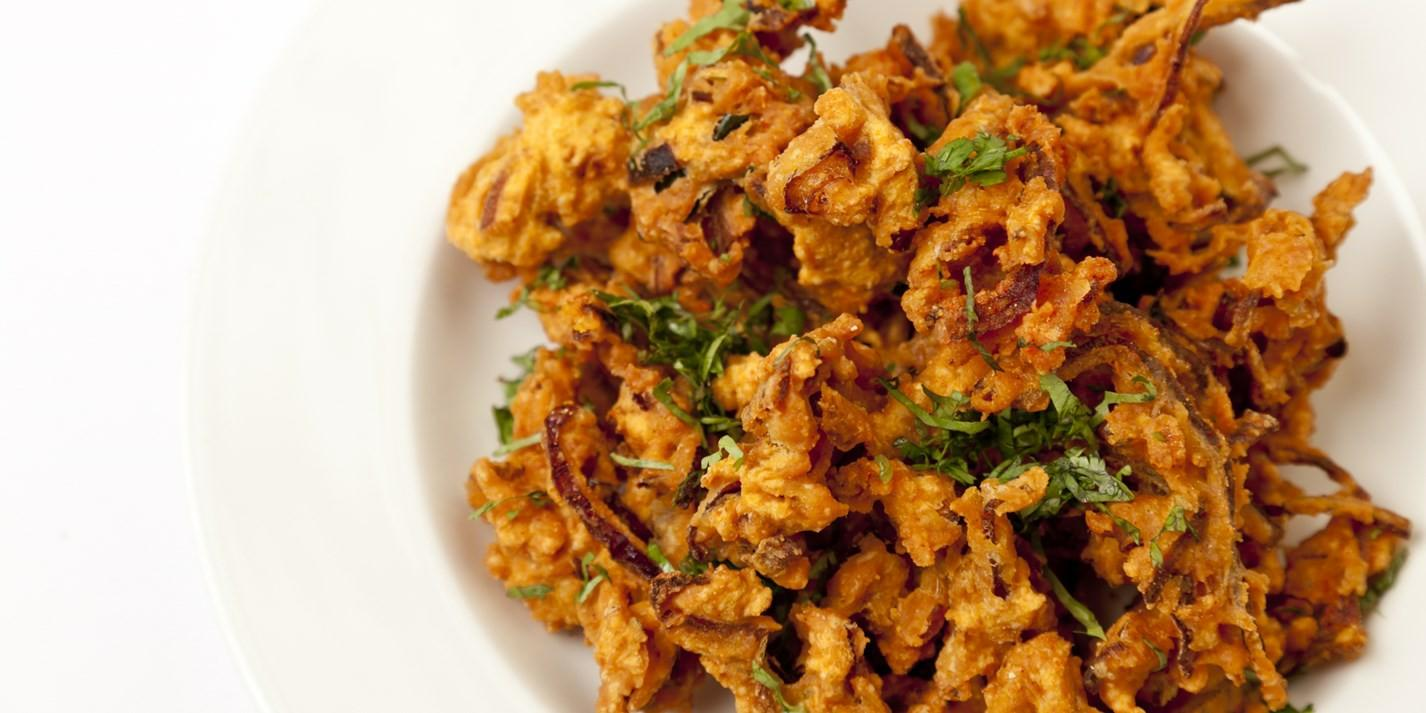OnionPakoda: (438, 0, 1409, 713)
